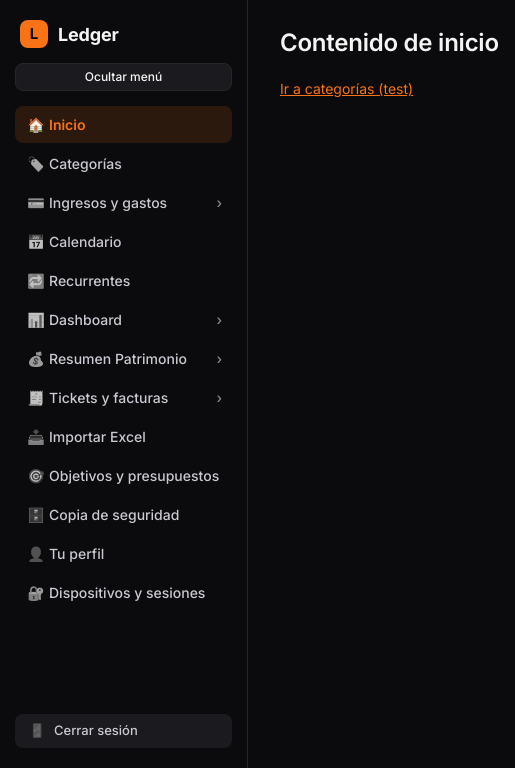
AppLayout › el submenú se cierra al elegir una de sus subsecciones
What coordinates should you click on to do the following:
click the link "💳 Ingresos y gastos ›"
I would click on:
 (125, 203)
Its box is x1=27 y1=194 x2=222 y2=211.
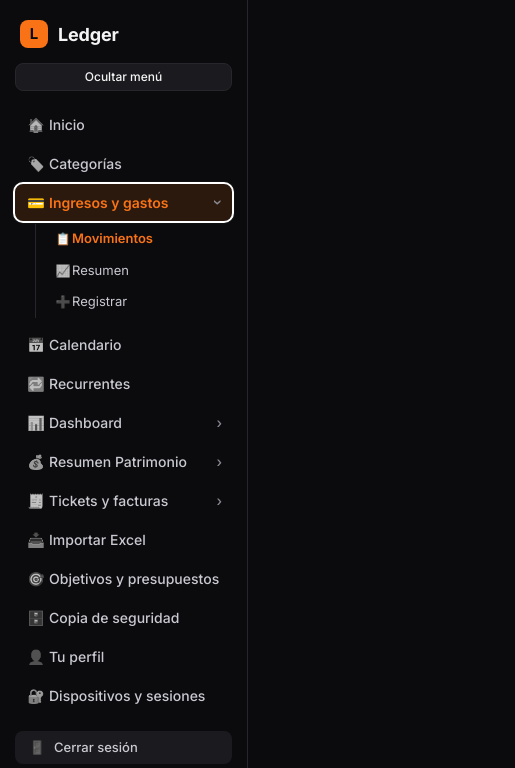
What coordinates should you click on to do the following:
click the link "📈 Resumen"
I would click on:
 (92, 270)
Its box is x1=56 y1=262 x2=129 y2=278.
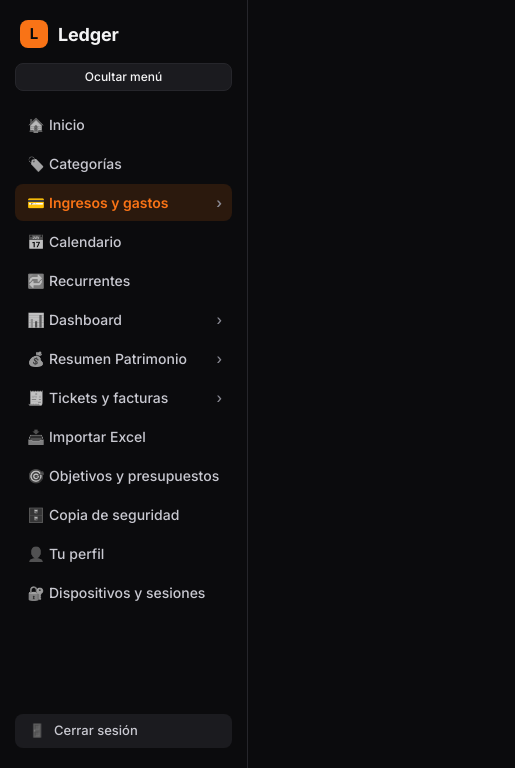
Expected: the link "Movimientos" is gone
Expected: the link "💳 Ingresos y gastos ›" is collapsed, x1=15 y1=184 x2=232 y2=221
